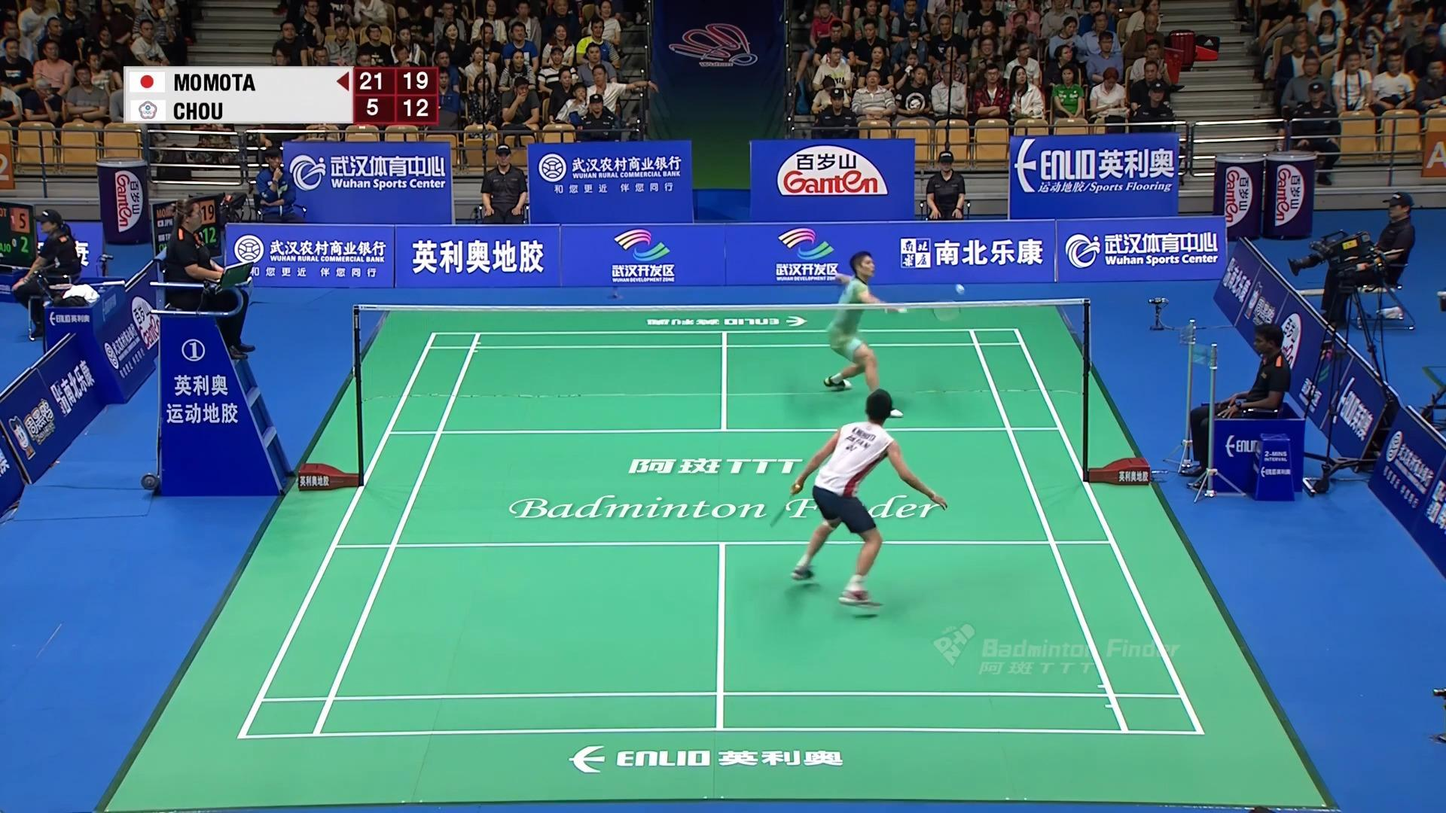shuttlecock: (956, 283, 964, 295)
